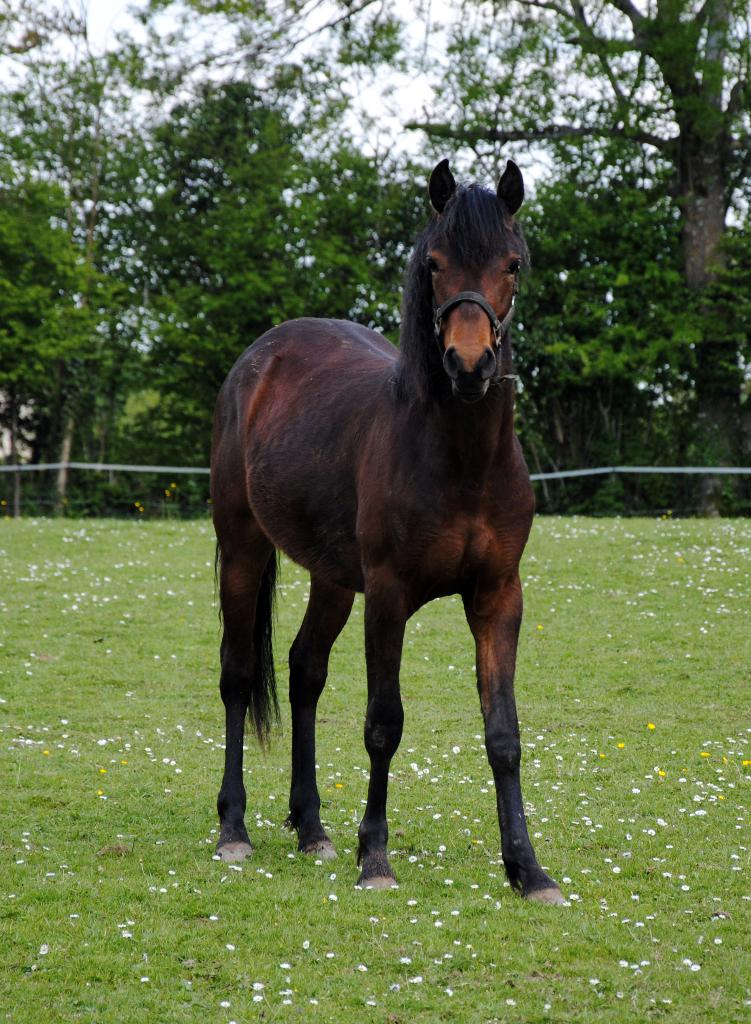horse: (208, 158, 568, 907)
